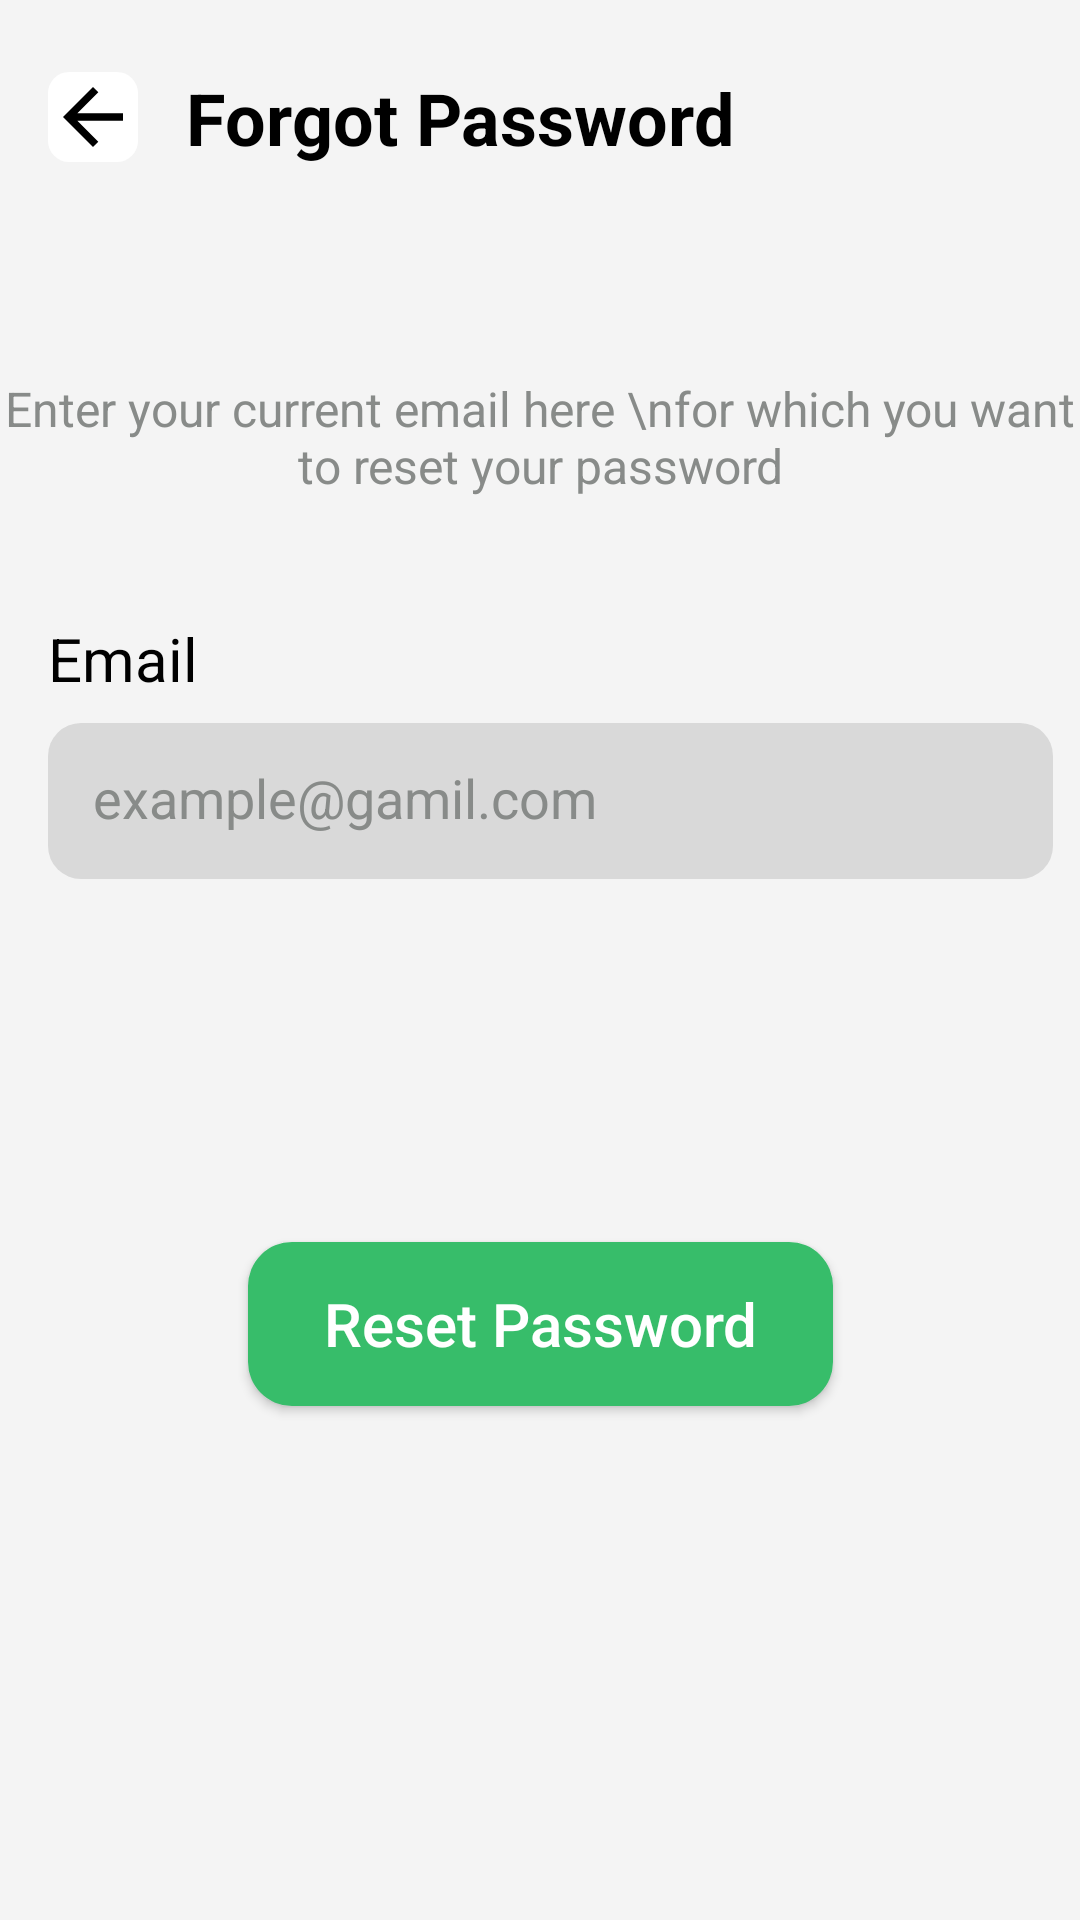

Icons on this 1080 × 1920 Android screen, each with its box as (x1, y1, x2, y2):
back: (48, 72, 138, 162)
